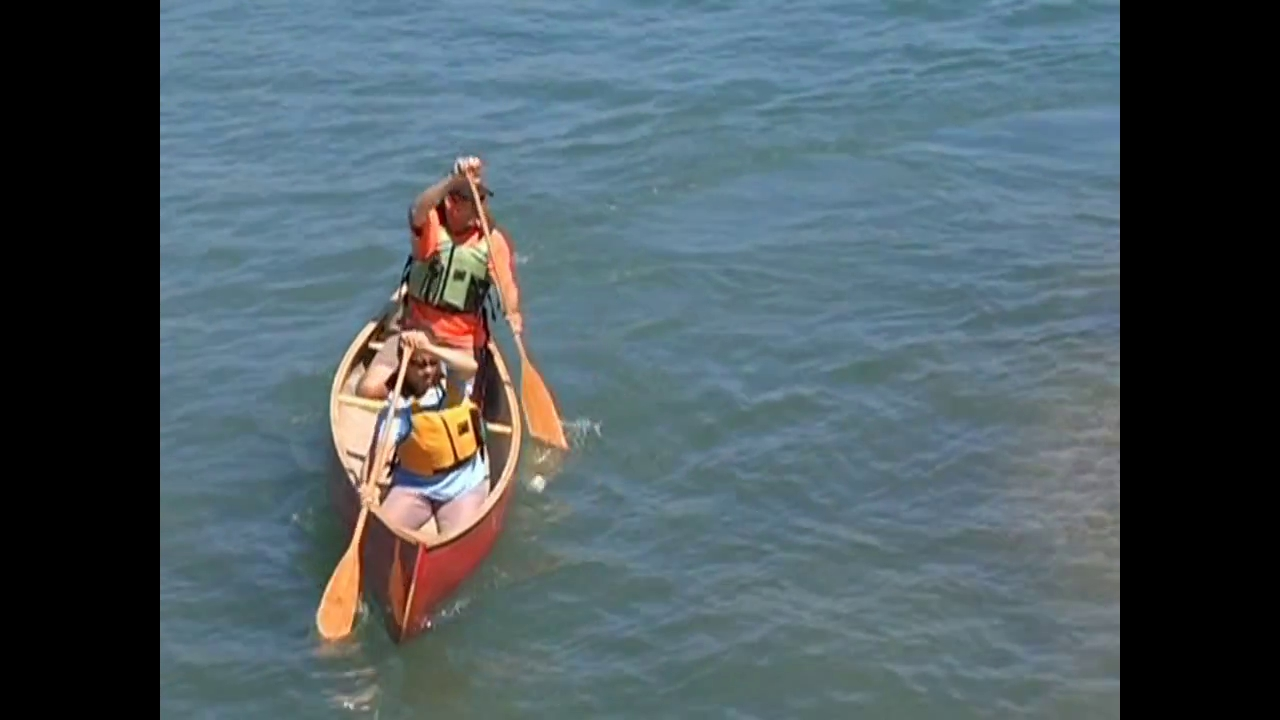person: (357, 327, 489, 538), (400, 155, 524, 352)
